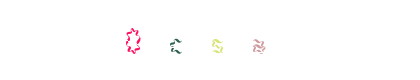0: (92, 0, 172, 80)
A: (170, 0, 250, 80)
C: (135, 0, 215, 80)
S: (166, 0, 246, 80)
